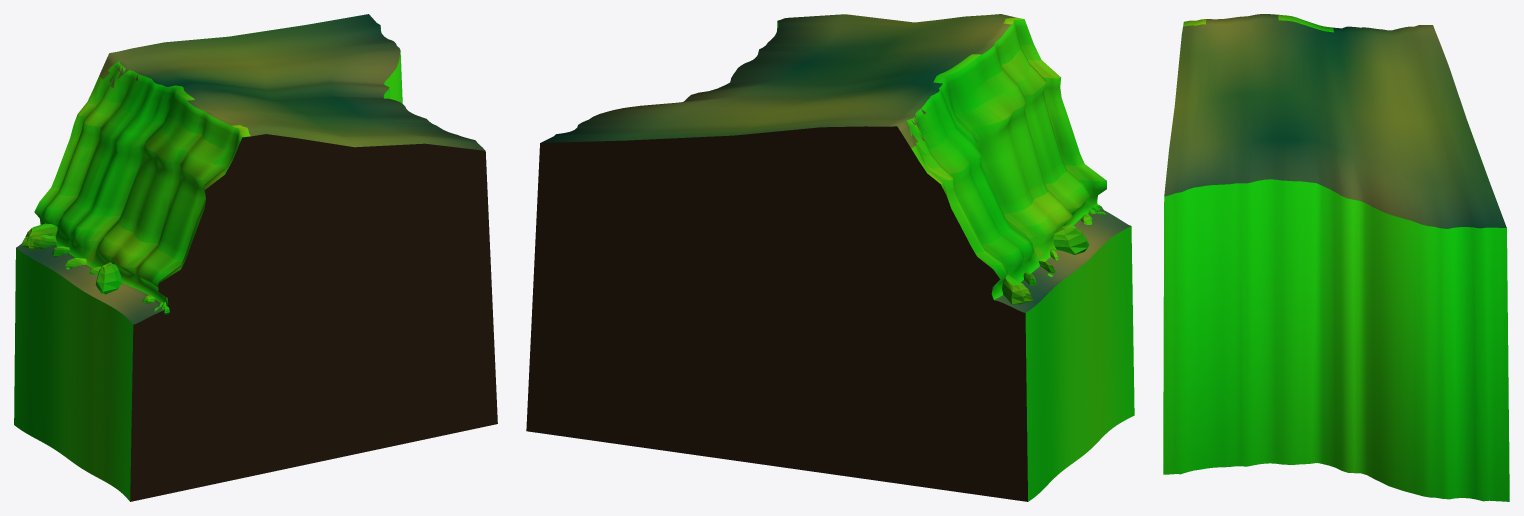
File: SM_ForestRisingCliffs_18.fbx
The picture shows the model from 3 angles, left to right: view 1: azimuth 30°, elevation 25°; view 2: azimuth 150°, elevation 25°; view 3: azimuth 270°, elevation 25°; orthographic projection. The views are drawn at different scales.
Parts seen in each view (by area): view 1: SM_ForestRisingCliffs_18; view 2: SM_ForestRisingCliffs_18; view 3: SM_ForestRisingCliffs_18.
Boxes of the visible parts, x1,y1,x2,y2 form: SM_ForestRisingCliffs_18: (14, 14, 497, 501); SM_ForestRisingCliffs_18: (526, 14, 1134, 501); SM_ForestRisingCliffs_18: (1163, 14, 1509, 501).
Bounding box in the file's own units: 60.86 × 44.29 × 48.13.
